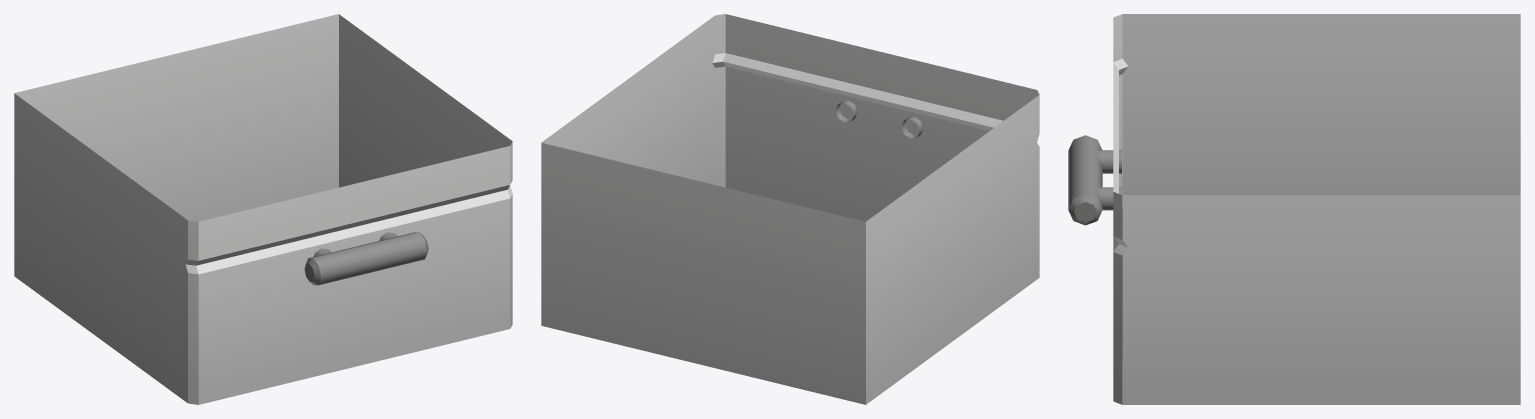
File: Counter_01_v02_C02.fbx
3 views of the same model, side by side, from view 1: azimuth 30°, elevation 25°; view 2: azimuth 150°, elevation 25°; view 3: azimuth 270°, elevation 25° (orthographic). The views are drawn at different scales.
Parts seen in each view (by area): view 1: Counter_01_v02_C02; view 2: Counter_01_v02_C02; view 3: Counter_01_v02_C02.
Boxes of the visible parts, left/top/right/bottom form: Counter_01_v02_C02: left=14, top=14, right=512, bottom=404; Counter_01_v02_C02: left=541, top=14, right=1039, bottom=404; Counter_01_v02_C02: left=1068, top=14, right=1520, bottom=404.
Bounding box in the file's own units: 100 × 53.91 × 105.
